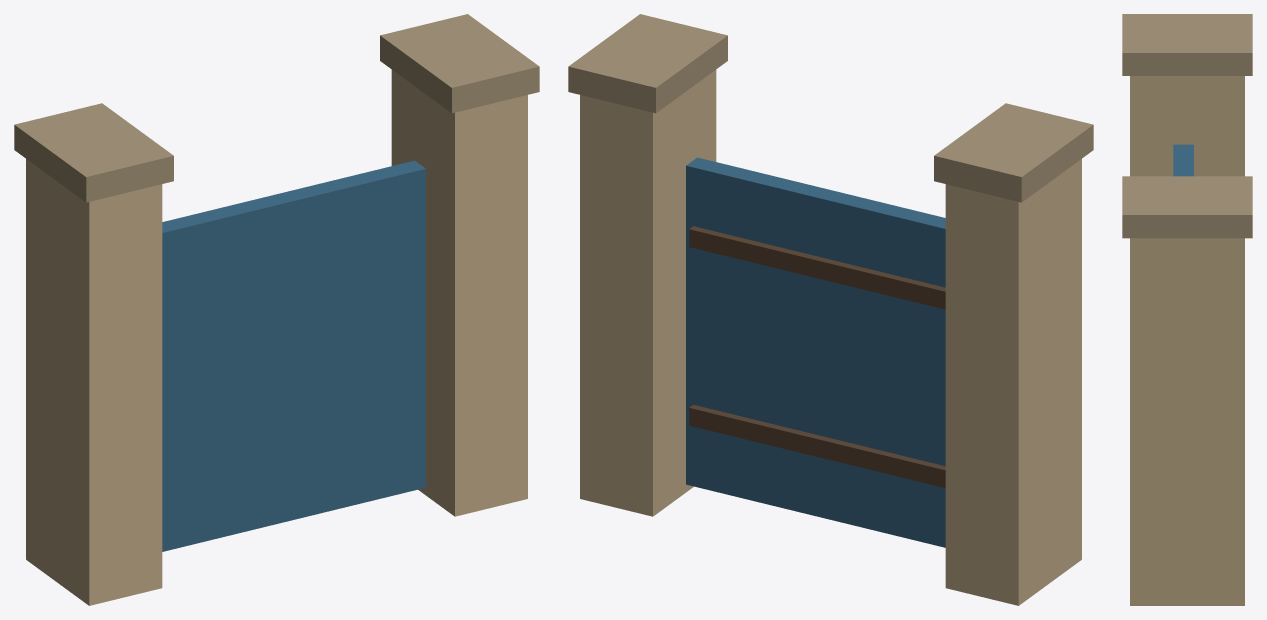
The model's file is bahce-kapisi-ahsap.glb.
The picture shows the model from 3 angles, left to right: view 1: azimuth 30°, elevation 25°; view 2: azimuth 150°, elevation 25°; view 3: azimuth 270°, elevation 25°; orthographic projection. The views are drawn at different scales.
Parts seen in each view (by area): view 1: tas2, mavi_kapi, tas_koyu; view 2: tas2, mavi_kapi, tas_koyu, ahsap_koyu; view 3: tas2, tas_koyu, mavi_kapi.
Part boxes in pixels (x1,y1,x2,y2): tas2: (26, 70, 527, 605); mavi_kapi: (162, 160, 425, 551); tas_koyu: (14, 14, 539, 202); tas2: (580, 70, 1081, 605); mavi_kapi: (686, 157, 945, 547); tas_koyu: (568, 14, 1093, 202); ahsap_koyu: (689, 226, 945, 487); tas2: (1130, 76, 1244, 605); tas_koyu: (1122, 14, 1252, 238); mavi_kapi: (1173, 144, 1193, 176).
Bounding box in the file's own units: 1.86 × 1.7 × 0.51.
